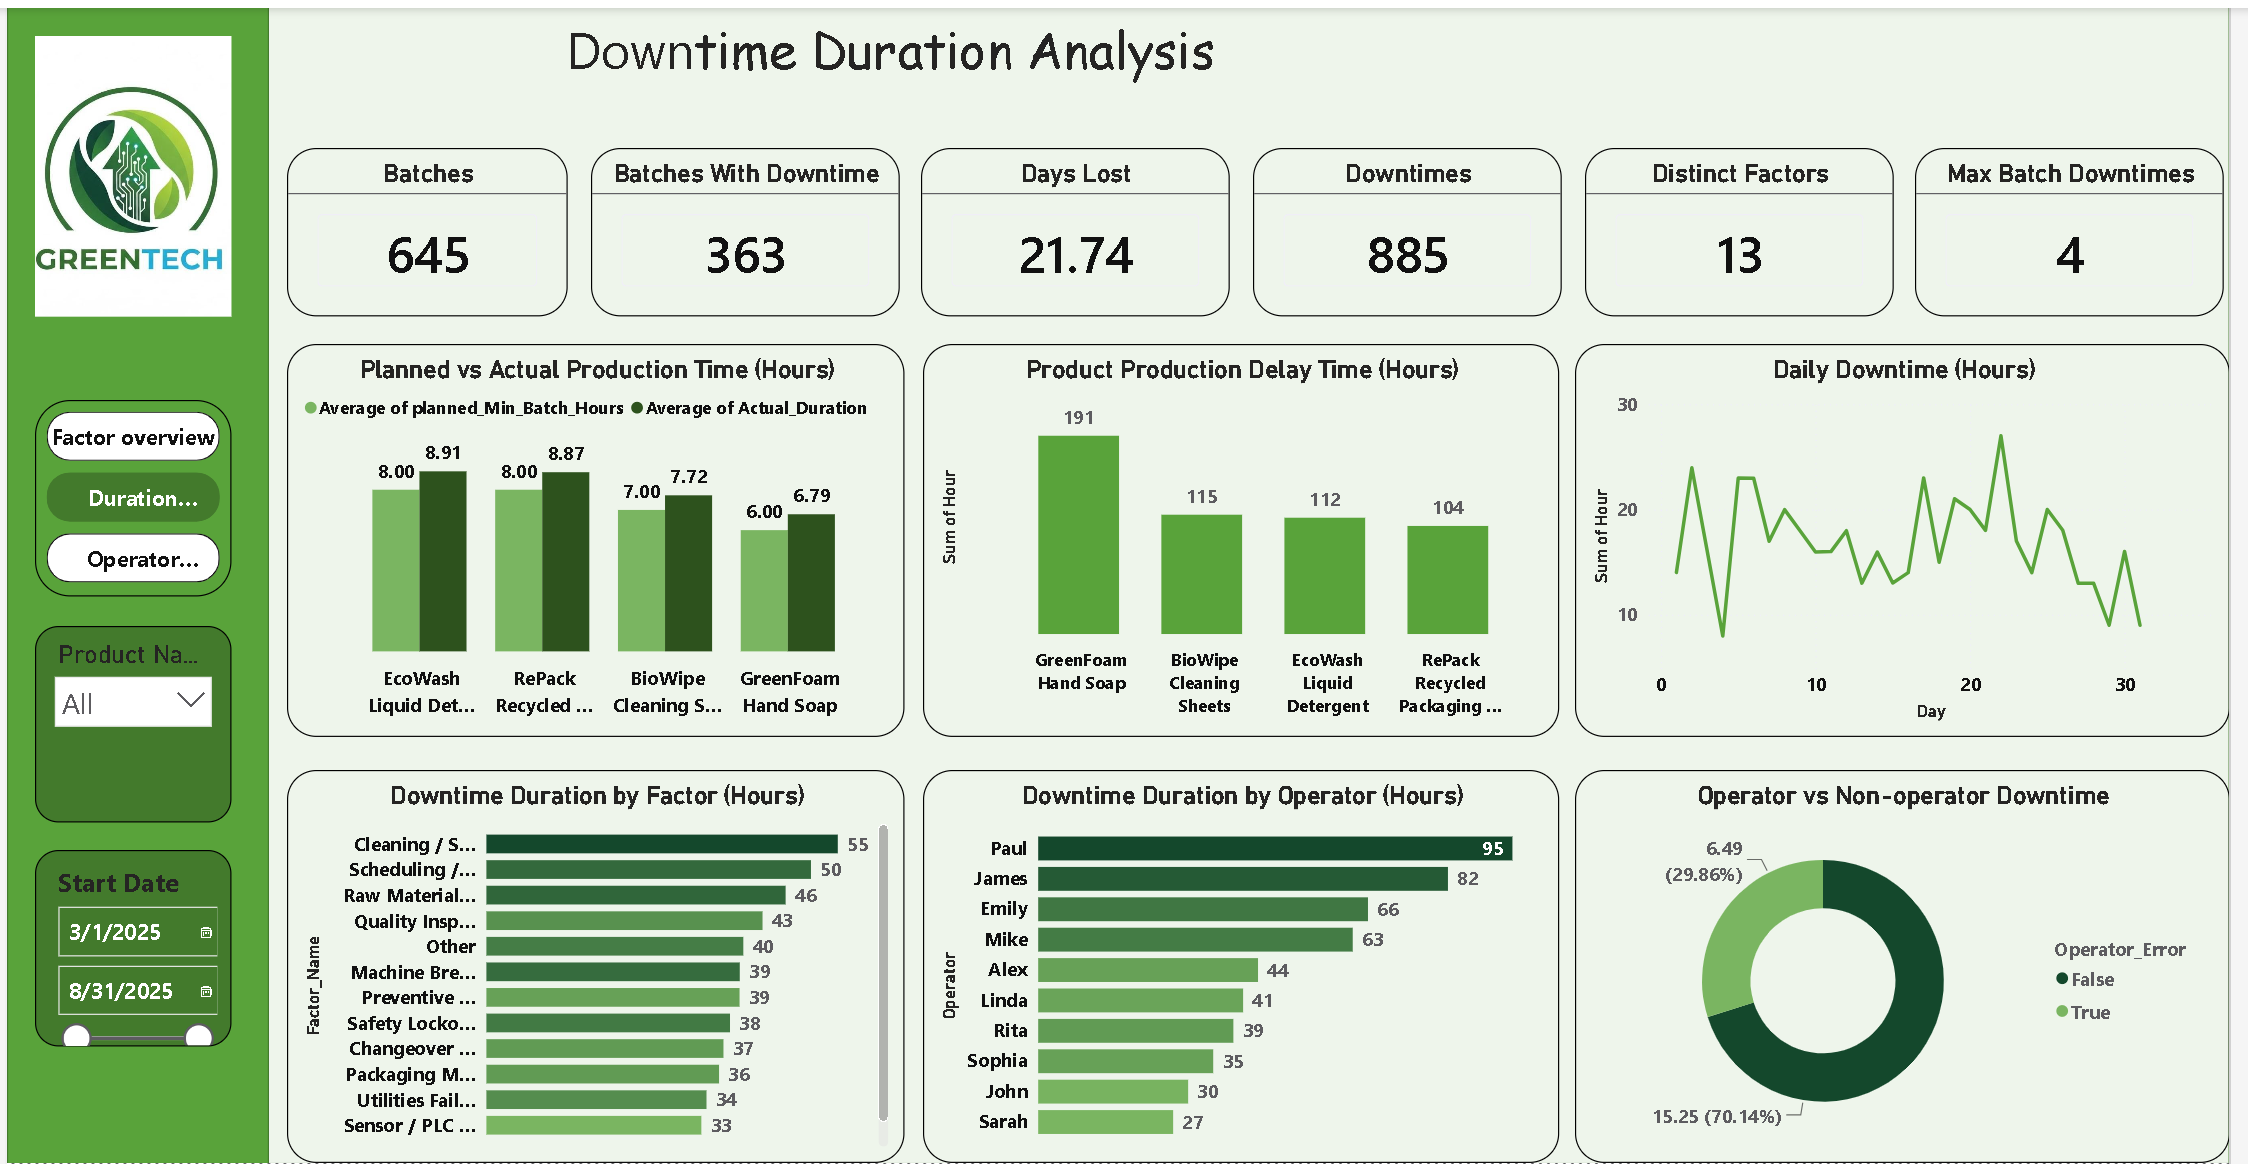

The page's visual inventory and layout, read from the dashboard file:
{"tool":"powerbi","page":{"name":"Duration analysis","canvas":[1900,988],"ordinal":1},"visuals":[{"type":"shape","box":[220,-4,1680,992],"z":500},{"type":"shape","box":[0,-4,224,992],"z":1000},{"type":"textbox","box":[240,0,1032,72],"z":2000},{"type":"cardVisual","title":"Batches","fields":{"Data":["CountNonNull(batch_pd.Batch_ID)"]},"box":[240,120,240,144],"z":3000},{"type":"cardVisual","title":"Batches With Downtime","fields":{"Data":["Count(downtimeS.Batch_ID)"]},"box":[499.2,120,264,144],"z":4000},{"type":"cardVisual","title":"Days Lost","fields":{"Data":["Sum(downtimeS.Days)"]},"box":[782.4,120,264,144],"z":5000},{"type":"cardVisual","title":"Downtimes","fields":{"Data":["CountNonNull(downtimeS.Batch_ID)"]},"box":[1065.6,120,264,144],"z":6000},{"type":"cardVisual","title":"Distinct Factors","fields":{"Data":["Count(downtimeS.Factor_ID)"]},"box":[1348.8,120,264,144],"z":7000},{"type":"cardVisual","title":"Max Batch Downtimes","fields":{"Data":["downtimeS.Max downtime per Batch"]},"box":[1632,120,264,144],"z":8000},{"type":"clusteredColumnChart","title":"Planned vs Actual Production Time (Hours)","fields":{"Category":["products.Product_Name"],"Y":["Avg(batch_pd.planned_Min_Batch_Hours)","Avg(batch_pd.Actual_Duration)"]},"box":[240,288,528,336],"z":9000},{"type":"columnChart","title":"Product Production Delay Time (Hours)","fields":{"Category":["products.Product_Name"],"Y":["Sum(downtimeS.Hour)"]},"box":[784,288,544,336],"z":10000},{"type":"lineChart","title":"Daily Downtime (Hours)","fields":{"Category":["batch_pd.Start_Date.Variation.Date Hierarchy.Year","batch_pd.Start_Date.Variation.Date Hierarchy.Quarter","batch_pd.Start_Date.Variation.Date Hierarchy.Month","batch_pd.Start_Date.Variation.Date Hierarchy.Day"],"Y":["Sum(downtimeS.Hour)"]},"box":[1340,288,560,336],"z":11000},{"type":"barChart","title":"Downtime Duration by Factor (Hours)","fields":{"Category":["downtime_factors.Factor_Name"],"Y":["Sum(downtimeS.Hour)"]},"box":[240,652,528,336],"z":12000},{"type":"barChart","title":"Downtime Duration by Operator (Hours)","fields":{"Category":["batch_pd.Operator"],"Y":["Sum(downtimeS.Hour)"]},"box":[784,652,544,336],"z":13000},{"type":"donutChart","title":"Operator vs Non-operator Downtime","fields":{"Category":["downtime_factors.Operator_Error"],"Y":["Sum(downtimeS.Days)"]},"box":[1340,652,560,336],"z":14000},{"type":"slicer","fields":{"Values":["products.Product_Name"]},"box":[24,528,168,168],"z":15000},{"type":"slicer","fields":{"Values":["batch_pd.Start_Date"]},"box":[24,720,168,168],"z":16000},{"type":"image","box":[24,24,168,240],"z":17000},{"type":"pageNavigator","box":[24,336,168,168],"z":18000}]}

Visuals, with their boxes in screenshot pixels (x1, y1, x2, y2), scaled from the page's 1900x988 canvas onto the 2248x1164 screenshot:
shape: bbox=[260, 0, 2247, 1163]
shape: bbox=[0, 0, 265, 1163]
textbox: bbox=[284, 0, 1505, 85]
"Batches" cardVisual: bbox=[284, 141, 568, 311]
"Batches With Downtime" cardVisual: bbox=[591, 141, 903, 311]
"Days Lost" cardVisual: bbox=[926, 141, 1238, 311]
"Downtimes" cardVisual: bbox=[1261, 141, 1573, 311]
"Distinct Factors" cardVisual: bbox=[1596, 141, 1908, 311]
"Max Batch Downtimes" cardVisual: bbox=[1931, 141, 2243, 311]
"Planned vs Actual Production Time (Hours)" clusteredColumnChart: bbox=[284, 339, 909, 735]
"Product Production Delay Time (Hours)" columnChart: bbox=[928, 339, 1571, 735]
"Daily Downtime (Hours)" lineChart: bbox=[1585, 339, 2247, 735]
"Downtime Duration by Factor (Hours)" barChart: bbox=[284, 768, 909, 1163]
"Downtime Duration by Operator (Hours)" barChart: bbox=[928, 768, 1571, 1163]
"Operator vs Non-operator Downtime" donutChart: bbox=[1585, 768, 2247, 1163]
slicer - products.Product_Name: bbox=[28, 622, 227, 820]
slicer - batch_pd.Start_Date: bbox=[28, 848, 227, 1046]
image: bbox=[28, 28, 227, 311]
pageNavigator: bbox=[28, 396, 227, 594]
